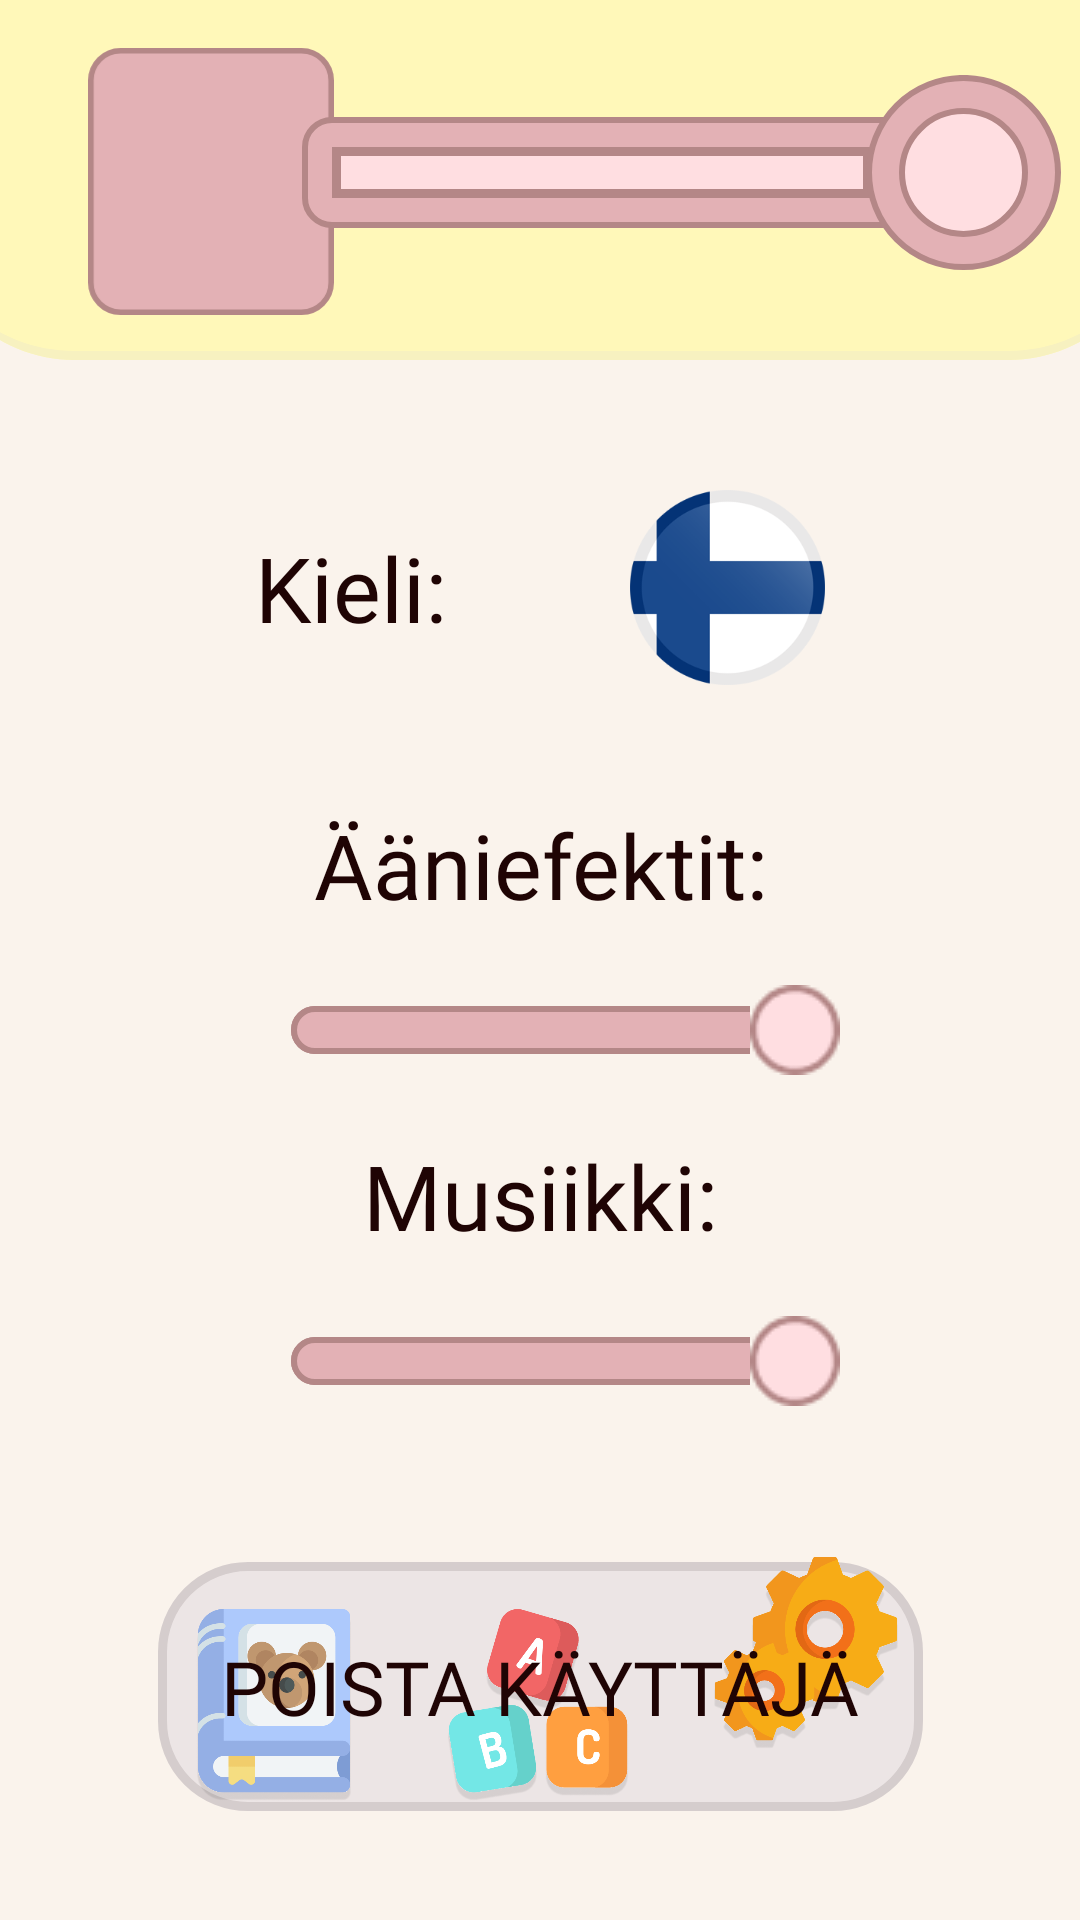

Icons on this 1080w x 1920h Android screen, each with its box as (x1, y1, x2, y2):
flag fi: (630, 490, 825, 685)
